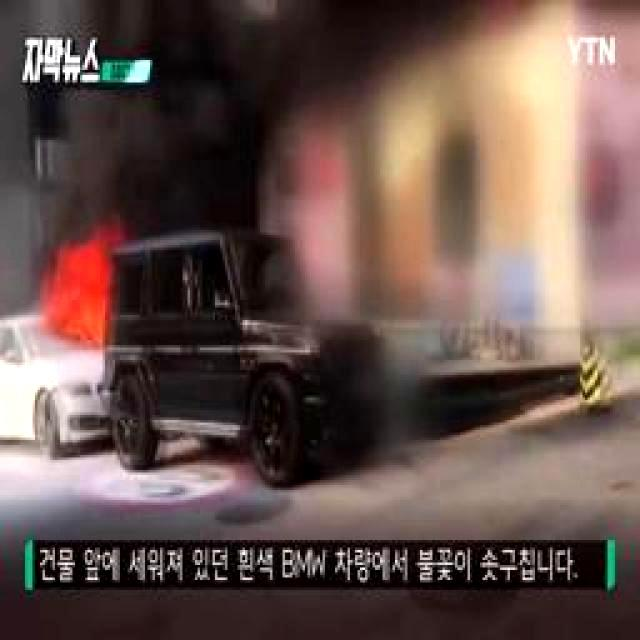fire: (63, 272, 111, 341)
